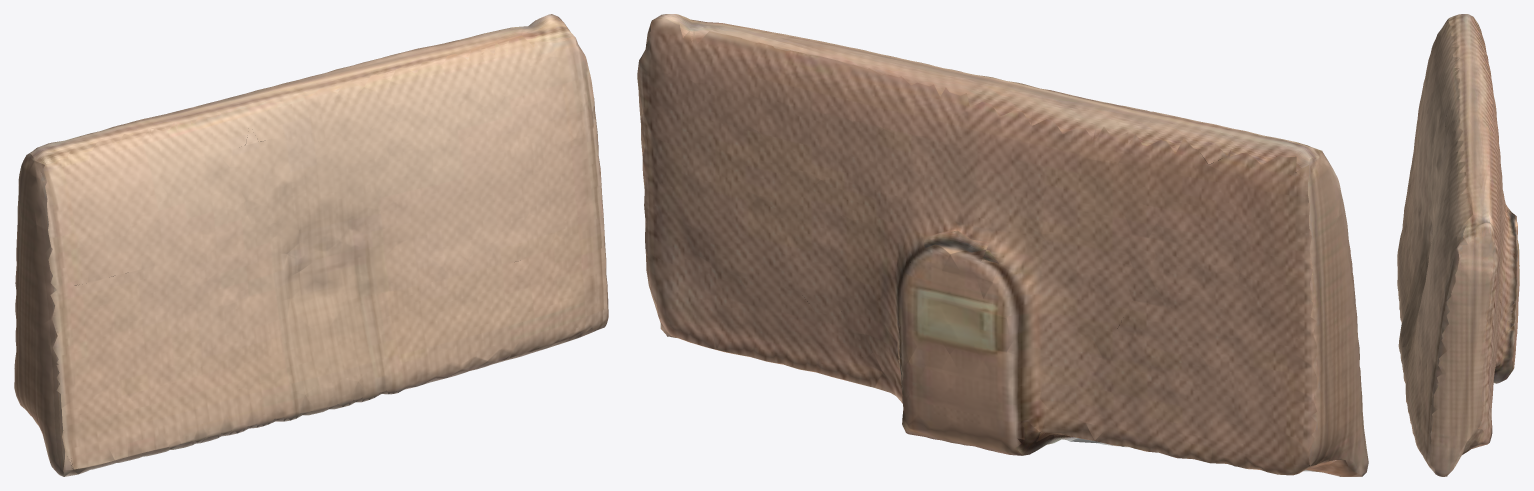
The picture shows the model from 3 angles, left to right: view 1: azimuth 30°, elevation 25°; view 2: azimuth 150°, elevation 25°; view 3: azimuth 270°, elevation 25°; orthographic projection. The views are drawn at different scales.
Visible parts, largest first — view 1: world; view 2: world; view 3: world.
Part boxes in pixels (left/top/right/bottom): world: left=14, top=14, right=608, bottom=476; world: left=637, top=14, right=1368, bottom=476; world: left=1397, top=14, right=1519, bottom=476.
Bounding box in the file's own units: 0.9388 × 0.4796 × 0.2135.
Materials: 1 (1 with a texture image).
